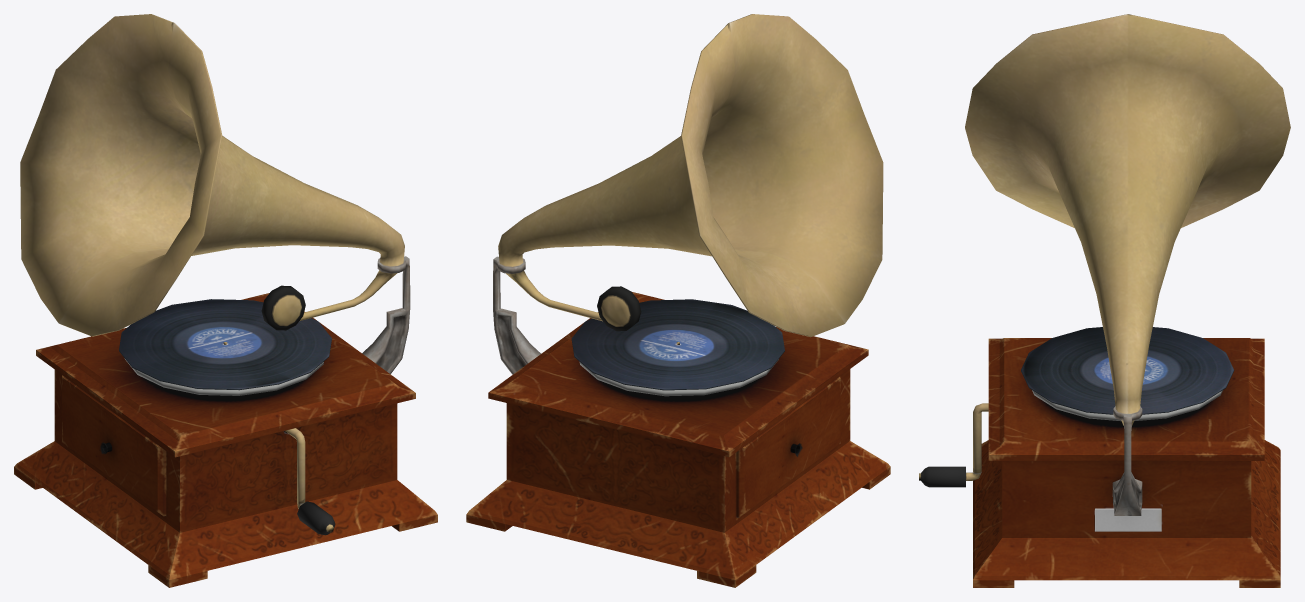
The model's file is a_1940s_gramophone.glb.
3 views of the same model, side by side, from view 1: azimuth 30°, elevation 25°; view 2: azimuth 150°, elevation 25°; view 3: azimuth 270°, elevation 25° (orthographic).
Visible parts, largest first — view 1: GRAMOPHONE.001; view 2: GRAMOPHONE.001; view 3: GRAMOPHONE.001.
Boxes of the visible parts, <box> form: GRAMOPHONE.001: <box>14,14,437,587</box>; GRAMOPHONE.001: <box>466,14,890,587</box>; GRAMOPHONE.001: <box>919,14,1290,587</box>.
Size of what is drawn, in the model's own units: 2.46 by 3.27 by 2.28.
1 material, 1 textured.
